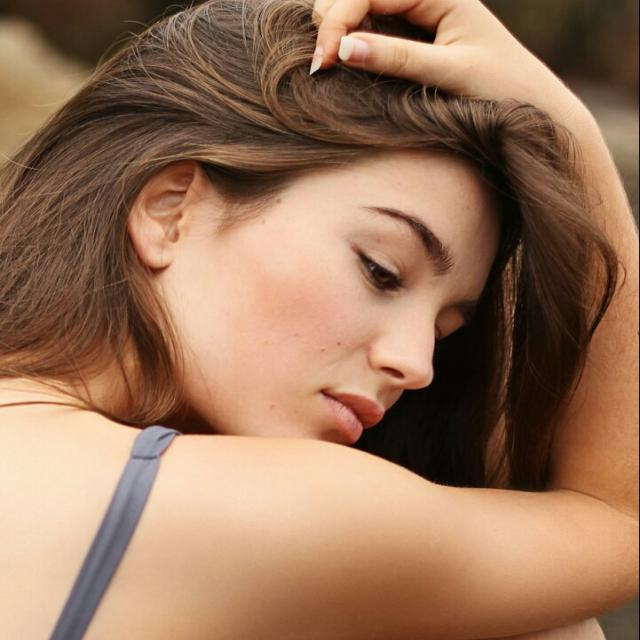front: (213, 193, 462, 449)
